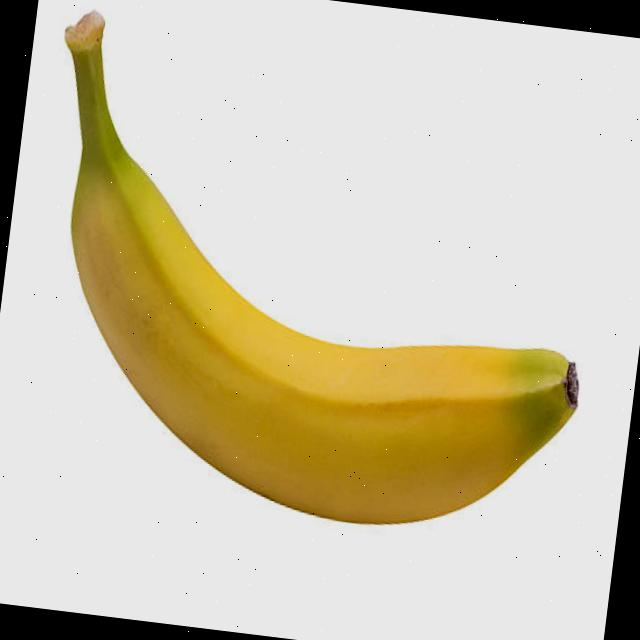Ripe: (7, 0, 620, 552)
